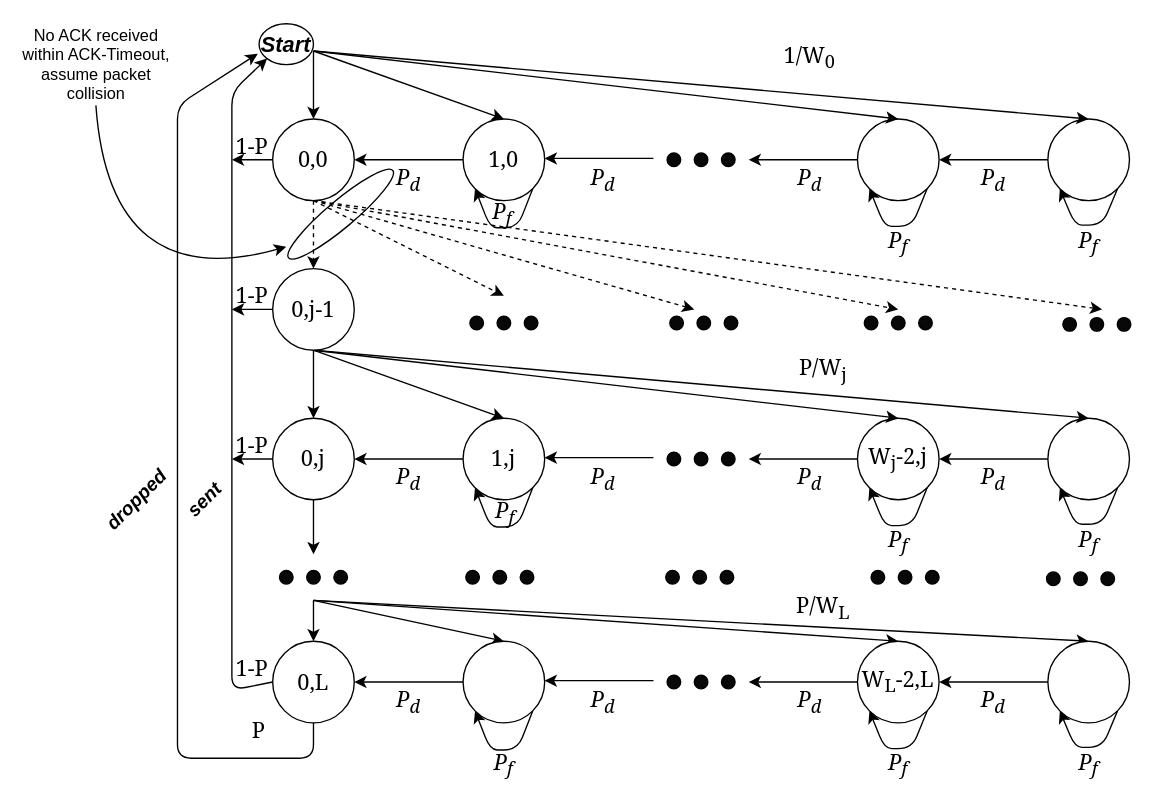
Image size: 1156x809. Some labels were removed from this diagram. Here are the shapes that lost their labels. From the top down, the centre of each, then its label:
At point 897,159: "W 0 -2,0".
At point 1088,159: "W 0 -1,0".
At point 1088,458: "W j -1,j".
At point 503,681: "1 ,L".
At point 1088,681: "W L -1,L".
